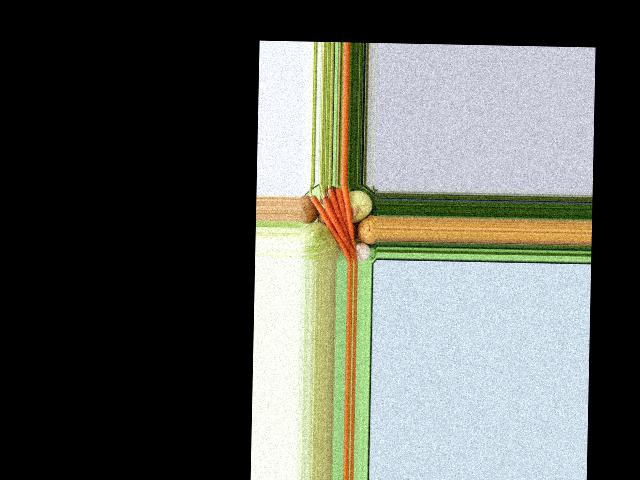carrot: (339, 184, 359, 259)
